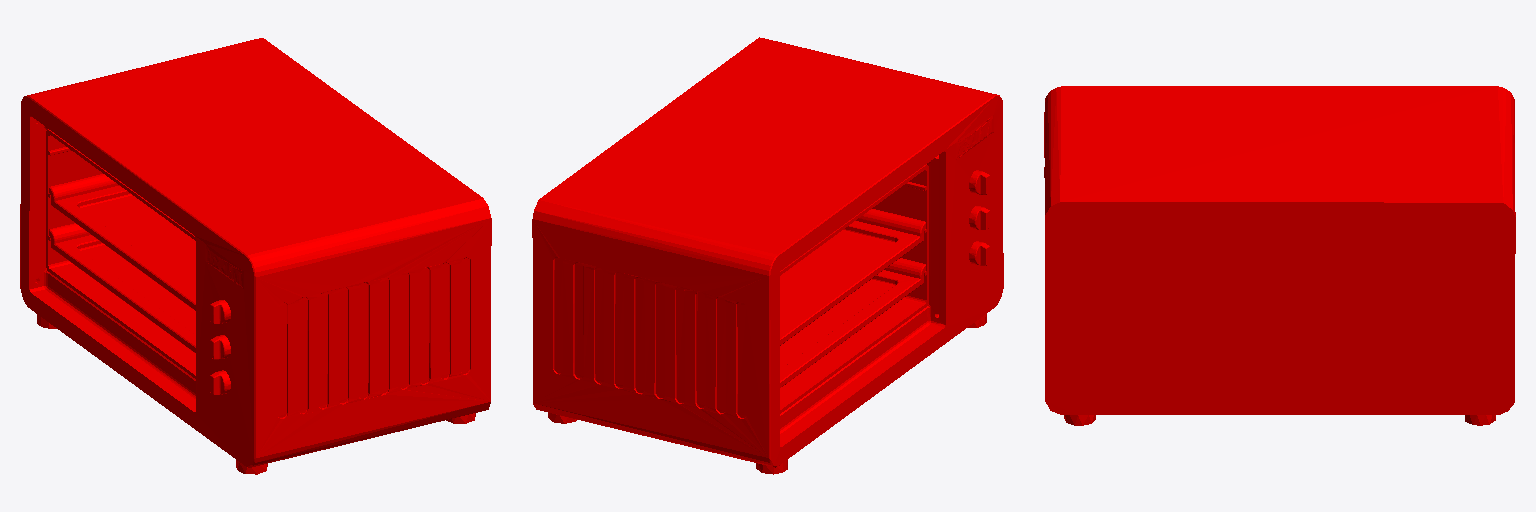
URDF robot description (oven):
<?xml version="1.0"?>
<robot name="oven">
<link name="oven_base_link">
  <inertial>
    <mass value="0.0"/>
    <origin xyz="0 0 0" rpy="1.57 0 -1.57"/>
    <inertia ixx="0.01" ixy="0" ixz="0" iyy="0.01" iyz="0" izz="0.01"/>
  </inertial>

  <visual>
    <origin xyz="0 0 0" rpy="1.57 0 -1.57"/>
    <geometry>
      <mesh filename="package://meshes/oven.dae" scale="1 1 1"/>
    </geometry>
    <material name="material_name">
      <color rgba="1.0 0.0 0.0 1.0"/>
    </material>
  </visual>

  <collision>
    <origin xyz="0 0 0" rpy="1.57 0 -1.57"/>
    <geometry>
      <mesh filename="package://meshes/oven.dae" scale="1 1 1"/> 
      
      </geometry>
  </collision>
</link>
</robot>

--- What the picture shows (computed from the rendered views, not written in the file) ---
The picture shows the robot from 3 angles, left to right: view 1: azimuth 30°, elevation 25°; view 2: azimuth 150°, elevation 25°; view 3: azimuth 270°, elevation 25°; orthographic projection.
Robot: oven — 1 links, 0 joints (none); root link oven_base_link; default pose: all joints at 0.
Links seen in each view (by area): view 1: oven_base_link; view 2: oven_base_link; view 3: oven_base_link.
Boxes of the visible links, <box> form: oven_base_link: <box>20,38,491,474</box>; oven_base_link: <box>532,37,1003,474</box>; oven_base_link: <box>1044,86,1515,425</box>.
Bounding box of the posed robot: 0.3702 × 0.6002 × 0.315 m (x, y, z).
1 mesh visuals loaded from 1 distinct referenced files (1 Collada DAE).
